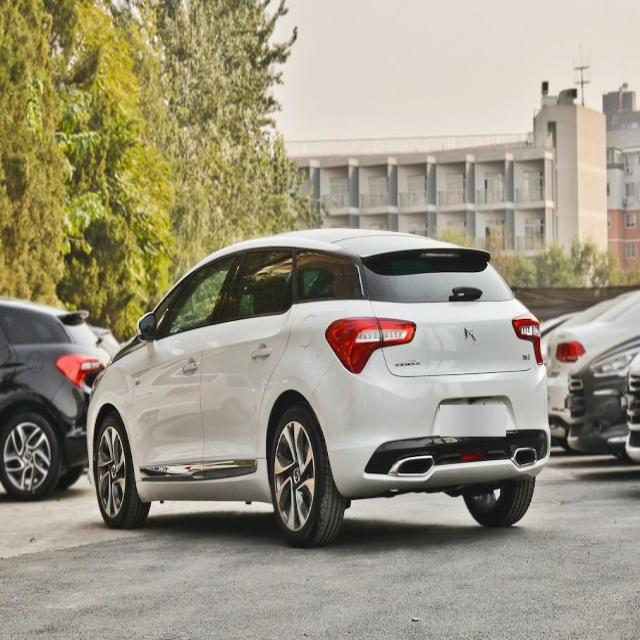back_glass: (360, 248, 516, 304)
back_left_side_light: (324, 315, 417, 377)
back_right_side_light: (510, 310, 545, 368)
door: (201, 248, 299, 479)
front_left_side_door: (132, 248, 244, 484)
front_left_side_light: (88, 366, 107, 407)
front_left_side_mirror: (136, 310, 158, 346)
rear_bumper: (309, 350, 552, 500)
wheel: (268, 408, 344, 544), (94, 414, 150, 529), (460, 472, 537, 526)
